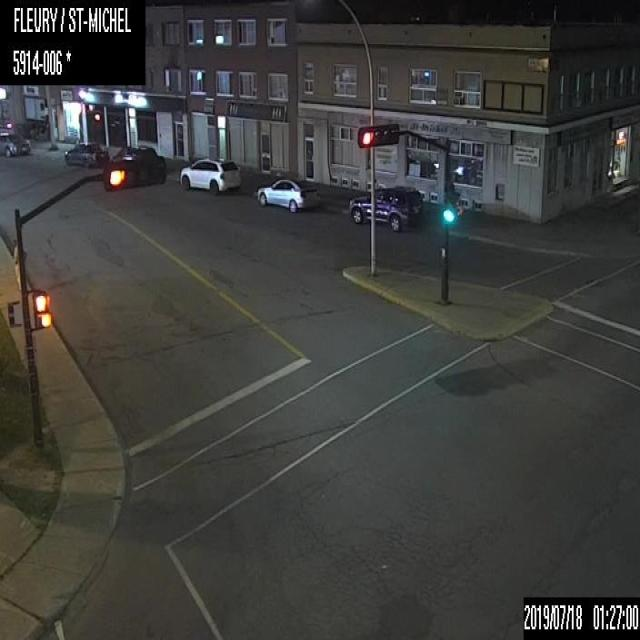pedestrian: (12, 234, 22, 290)
vehicle: (344, 183, 424, 232), (178, 156, 240, 195), (256, 177, 318, 212), (62, 140, 110, 167), (0, 128, 30, 156), (111, 145, 155, 162)
